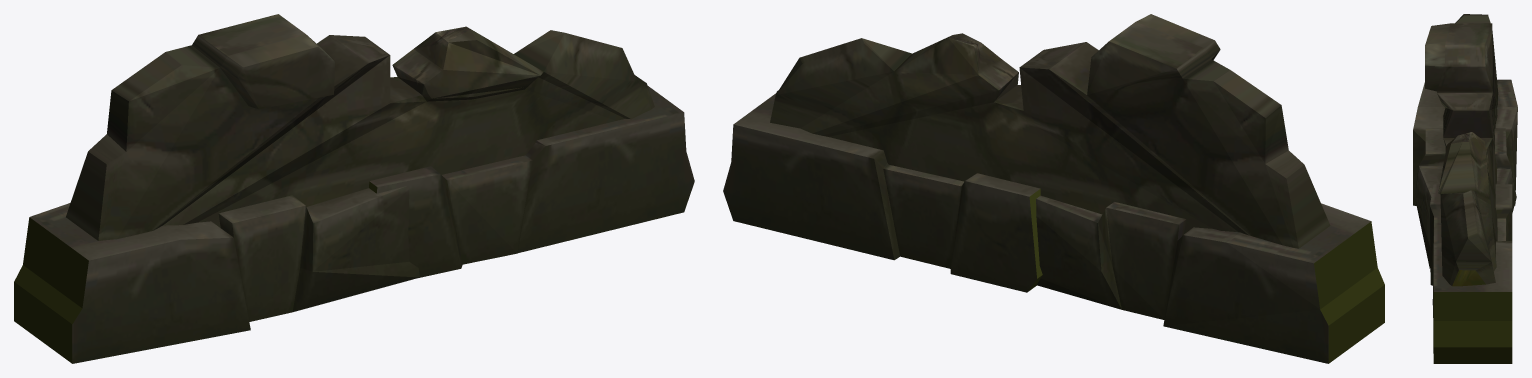
File: humgraveyard_straight_07.fbx
3 views of the same model, side by side, from view 1: azimuth 30°, elevation 25°; view 2: azimuth 150°, elevation 25°; view 3: azimuth 270°, elevation 25° (orthographic). The views are drawn at different scales.
Visible parts, largest first — view 1: obj3.010; view 2: obj3.010; view 3: obj3.010.
Part boxes in pixels (<box>): obj3.010: <box>14,14,694,363</box>; obj3.010: <box>723,14,1384,363</box>; obj3.010: <box>1413,14,1517,363</box>.
Bounding box in the file's own units: 4.3 × 1.72 × 0.867.
